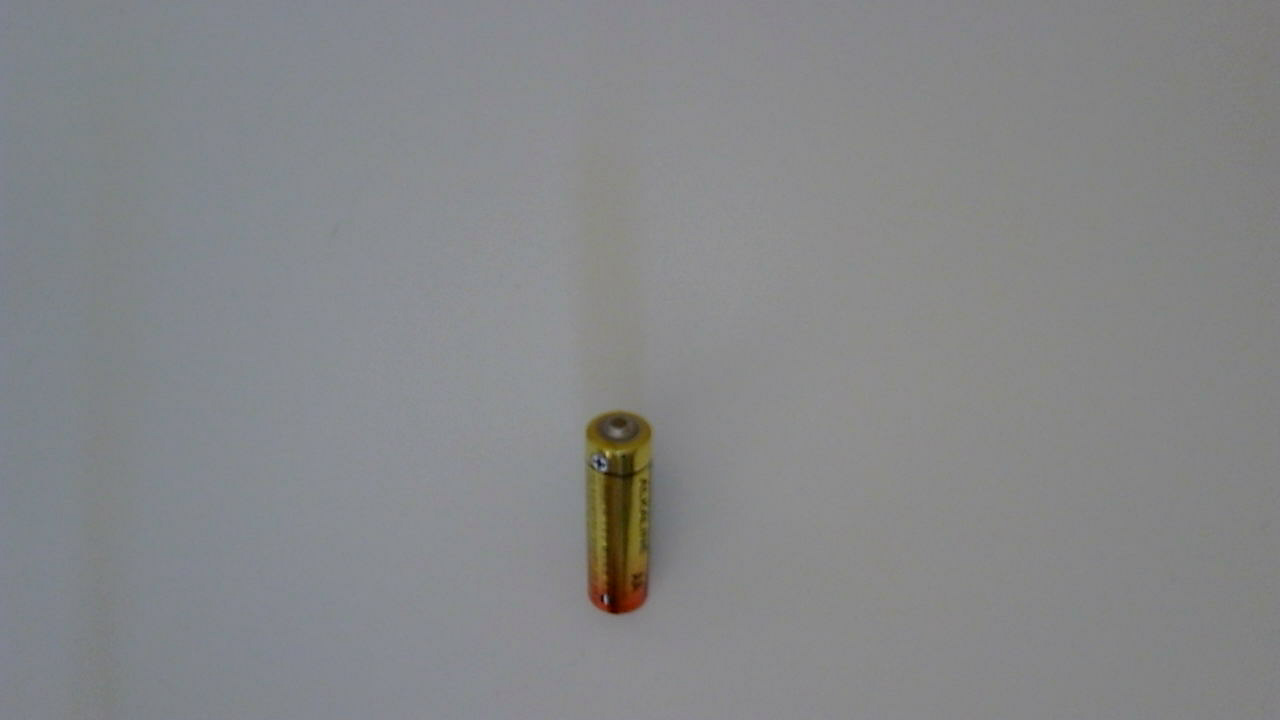Battery: (582, 404, 663, 630)
